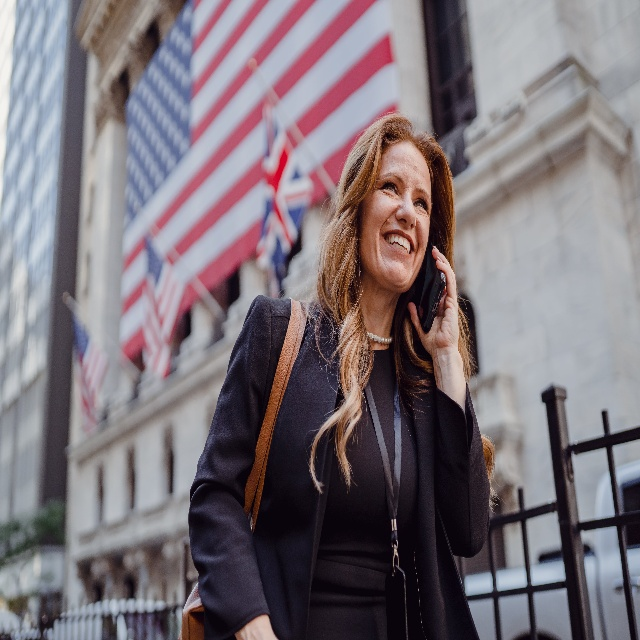Sin_guantes: (407, 248, 458, 356)
